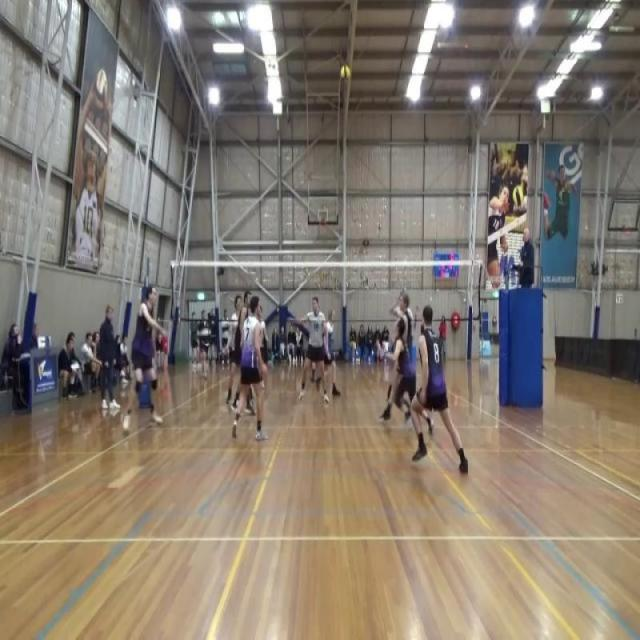volleyball: (512, 185, 527, 212), (340, 62, 351, 81)
